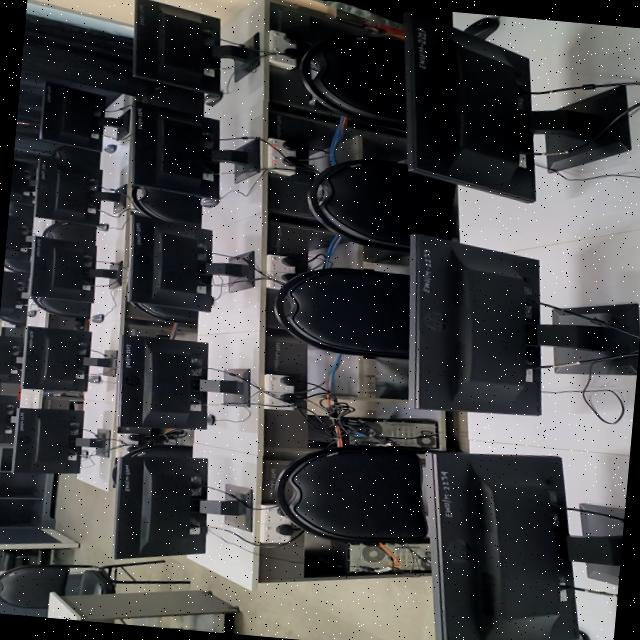Chair: (277, 445, 428, 543), (308, 158, 457, 251), (274, 266, 409, 359), (301, 34, 406, 130), (0, 559, 179, 607), (131, 183, 201, 225), (133, 84, 203, 115), (130, 301, 197, 321), (31, 296, 90, 318), (42, 220, 94, 244), (135, 443, 191, 456), (0, 306, 26, 325), (4, 252, 29, 271), (8, 200, 32, 219)
Cpu: (309, 402, 438, 448), (349, 542, 430, 572)
Monitor: (424, 452, 579, 640), (405, 12, 535, 202), (409, 234, 541, 415), (126, 214, 252, 311), (115, 450, 207, 557), (130, 101, 230, 199), (118, 333, 211, 431), (132, 0, 221, 102), (33, 158, 124, 227), (28, 235, 95, 316), (12, 407, 83, 472), (20, 325, 90, 390), (39, 80, 104, 150), (4, 214, 31, 271), (0, 270, 27, 324), (9, 158, 35, 205), (0, 334, 22, 382), (0, 394, 18, 442), (4, 261, 18, 270)
Mouse: (200, 196, 219, 206), (90, 313, 104, 322), (103, 143, 116, 152), (89, 374, 101, 383), (96, 222, 108, 230), (27, 309, 37, 315)
